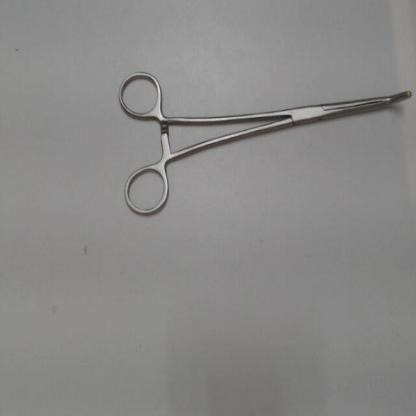Lahey Forceps: (113, 63, 414, 224)
